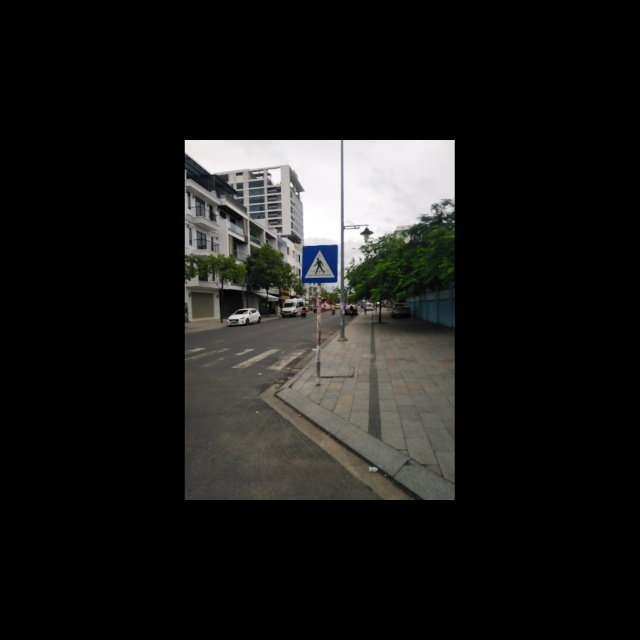Đường dành cho người đi bộ: (302, 245, 339, 282)
